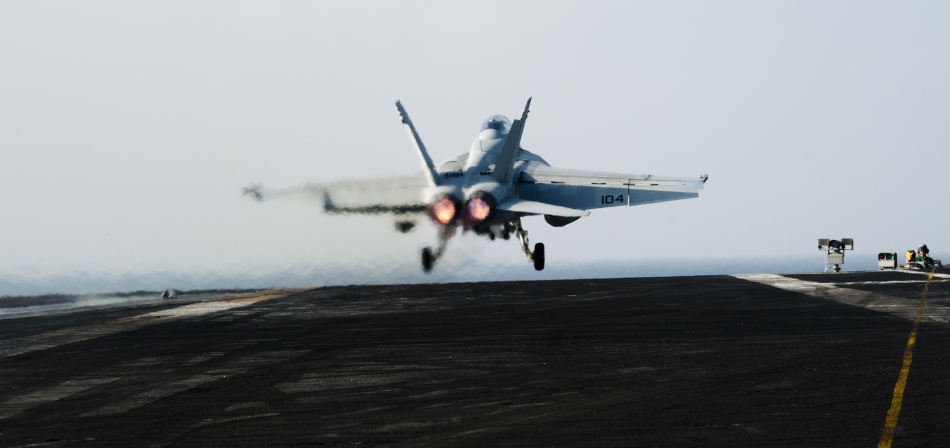airplane: (250, 74, 717, 281)
